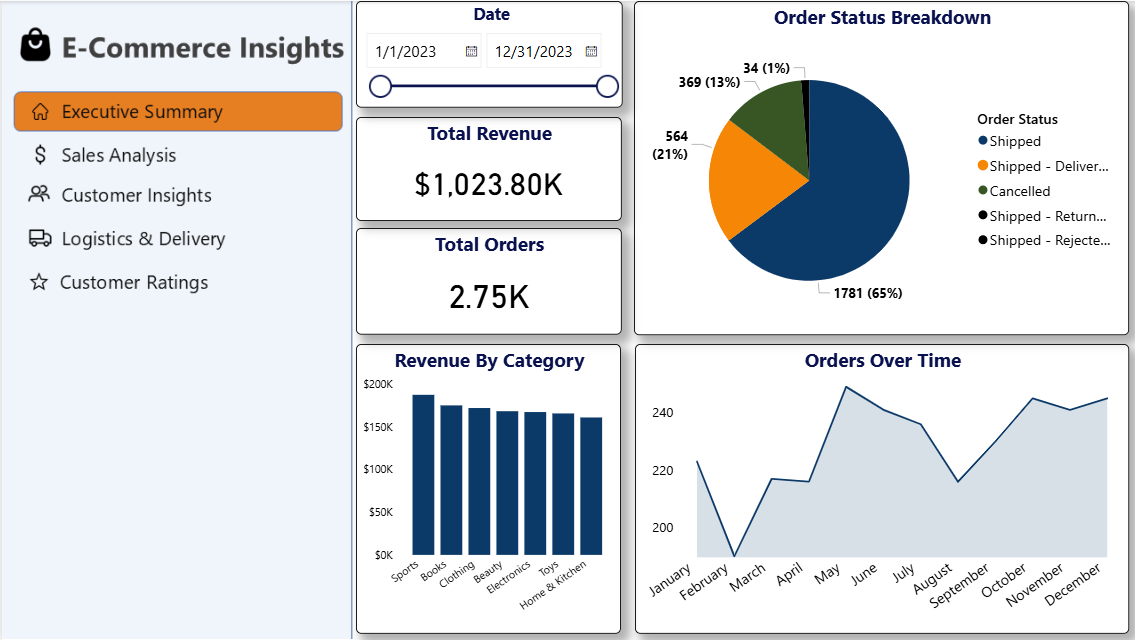

Layout of this report page (visuals, bound fields, positions):
{"tool":"powerbi","page":{"name":"Executive Summary","canvas":[1280,720],"ordinal":0},"visuals":[{"type":"actionButton","box":[18.8,147.5,352.5,48.8],"z":0},{"type":"actionButton","box":[19,196,353,46],"z":1000},{"type":"actionButton","box":[19,242,353,50],"z":2000},{"type":"actionButton","box":[19,292,353,47],"z":3000},{"type":"card","title":"Total Revenue","fields":{"Values":["ecommerce sales.total_revenue"]},"box":[398.6,130,298.6,117.1],"z":4000},{"type":"card","title":"Total Orders","fields":{"Values":["ecommerce sales.total_orders"]},"box":[398.6,255.7,298.6,120],"z":5000},{"type":"slicer","title":"Date ","fields":{"Values":["ecommerce sales.Date"]},"box":[398,0,300,120],"z":6000},{"type":"pieChart","title":"Order Status Breakdown","fields":{"Category":["ecommerce sales.order_status"],"Y":["CountNonNull(ecommerce sales.order_status)"]},"box":[711.4,0,557.1,375.7],"z":7000},{"type":"lineChart","title":"Orders Over Time","fields":{"Y":["CountNonNull(ecommerce sales.order_id)"],"Category":["ecommerce sales.Date.Variation.Date Hierarchy.Month"]},"box":[712,386,556,326],"z":8000},{"type":"clusteredColumnChart","title":"Revenue By Category","fields":{"Category":["ecommerce sales.category"],"Y":["ecommerce sales.total_revenue"]},"box":[398.2,385.9,298.1,326.2],"z":9000}]}

Visuals, with their boxes in screenshot pixels (x1, y1, x2, y2), scaled from the page's 1280x720 canvas onto the 1135x640 screenshot:
actionButton: <bbox>17, 131, 329, 174</bbox>
actionButton: <bbox>17, 174, 330, 215</bbox>
actionButton: <bbox>17, 215, 330, 260</bbox>
actionButton: <bbox>17, 260, 330, 301</bbox>
"Total Revenue" card: <bbox>353, 116, 618, 220</bbox>
"Total Orders" card: <bbox>353, 227, 618, 334</bbox>
"Date " slicer: <bbox>353, 0, 619, 107</bbox>
"Order Status Breakdown" pieChart: <bbox>631, 0, 1125, 334</bbox>
"Orders Over Time" lineChart: <bbox>631, 343, 1124, 633</bbox>
"Revenue By Category" clusteredColumnChart: <bbox>353, 343, 617, 633</bbox>
